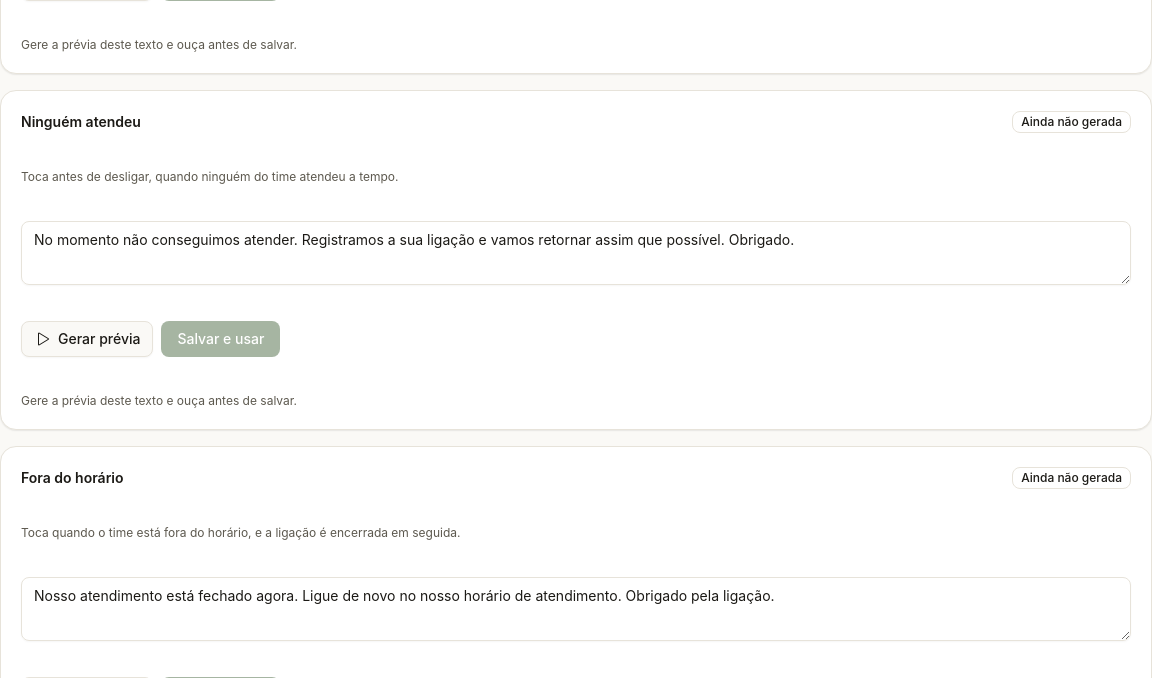
Test: aba Voz e falas — as falhas aparecem com o que fazer › a prévia foi paga e não guardada (`paga: true`): diz que foi gerada mas não guardada
(page scrolled)
Expected: the heading "Fora do horário" is shown, [21, 468, 124, 488]
Click the button "Gerar prévia" below "Ninguém atendeu" at [87, 339], box [21, 321, 153, 357]
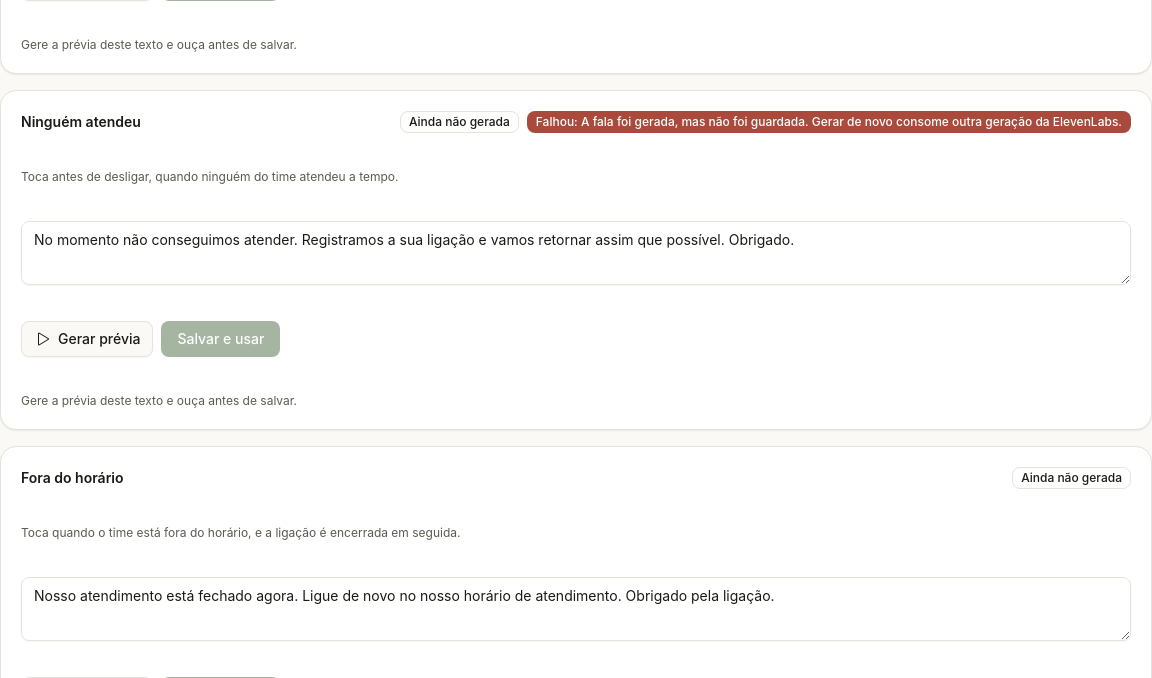
Expected: the button "Salvar e usar" below "Ninguém atendeu" is disabled, [161, 321, 280, 357]
Now the text "A fala foi gerada, mas não foi guardada." is shown, box [581, 114, 1122, 129]
